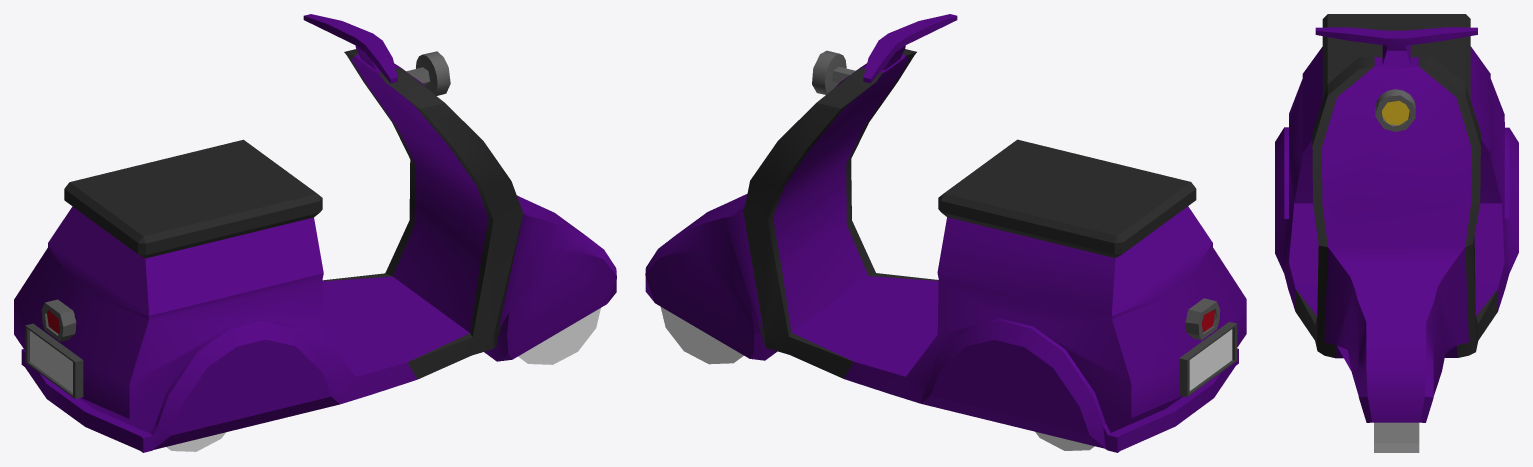
Rendered from Scooter_Original.fbx.
3 renders of one model, left to right at view 1: azimuth 30°, elevation 25°; view 2: azimuth 150°, elevation 25°; view 3: azimuth 270°, elevation 25°, orthographic. The views are drawn at different scales.
Visible parts, largest first — view 1: Scooter, Plate, Cylinder.004, Headlight, Tail Light; view 2: Scooter, Plate, Cylinder.004, Headlight, Tail Light; view 3: Scooter, Cylinder.004, Headlight.
Boxes of the visible parts, x1,y1,x2,y2 form: Scooter: (14,14,616,452); Plate: (25,323,83,398); Cylinder.004: (518,308,600,364); Headlight: (406,51,450,95); Tail Light: (41,299,76,341); Scooter: (645,14,1246,452); Plate: (1179,321,1237,396); Cylinder.004: (660,307,743,364); Headlight: (812,50,855,94); Tail Light: (1185,298,1220,340); Scooter: (1275,14,1518,422); Cylinder.004: (1374,422,1419,452); Headlight: (1375,89,1415,131).
Bounding box in the file's own units: 827 × 512 × 337.
